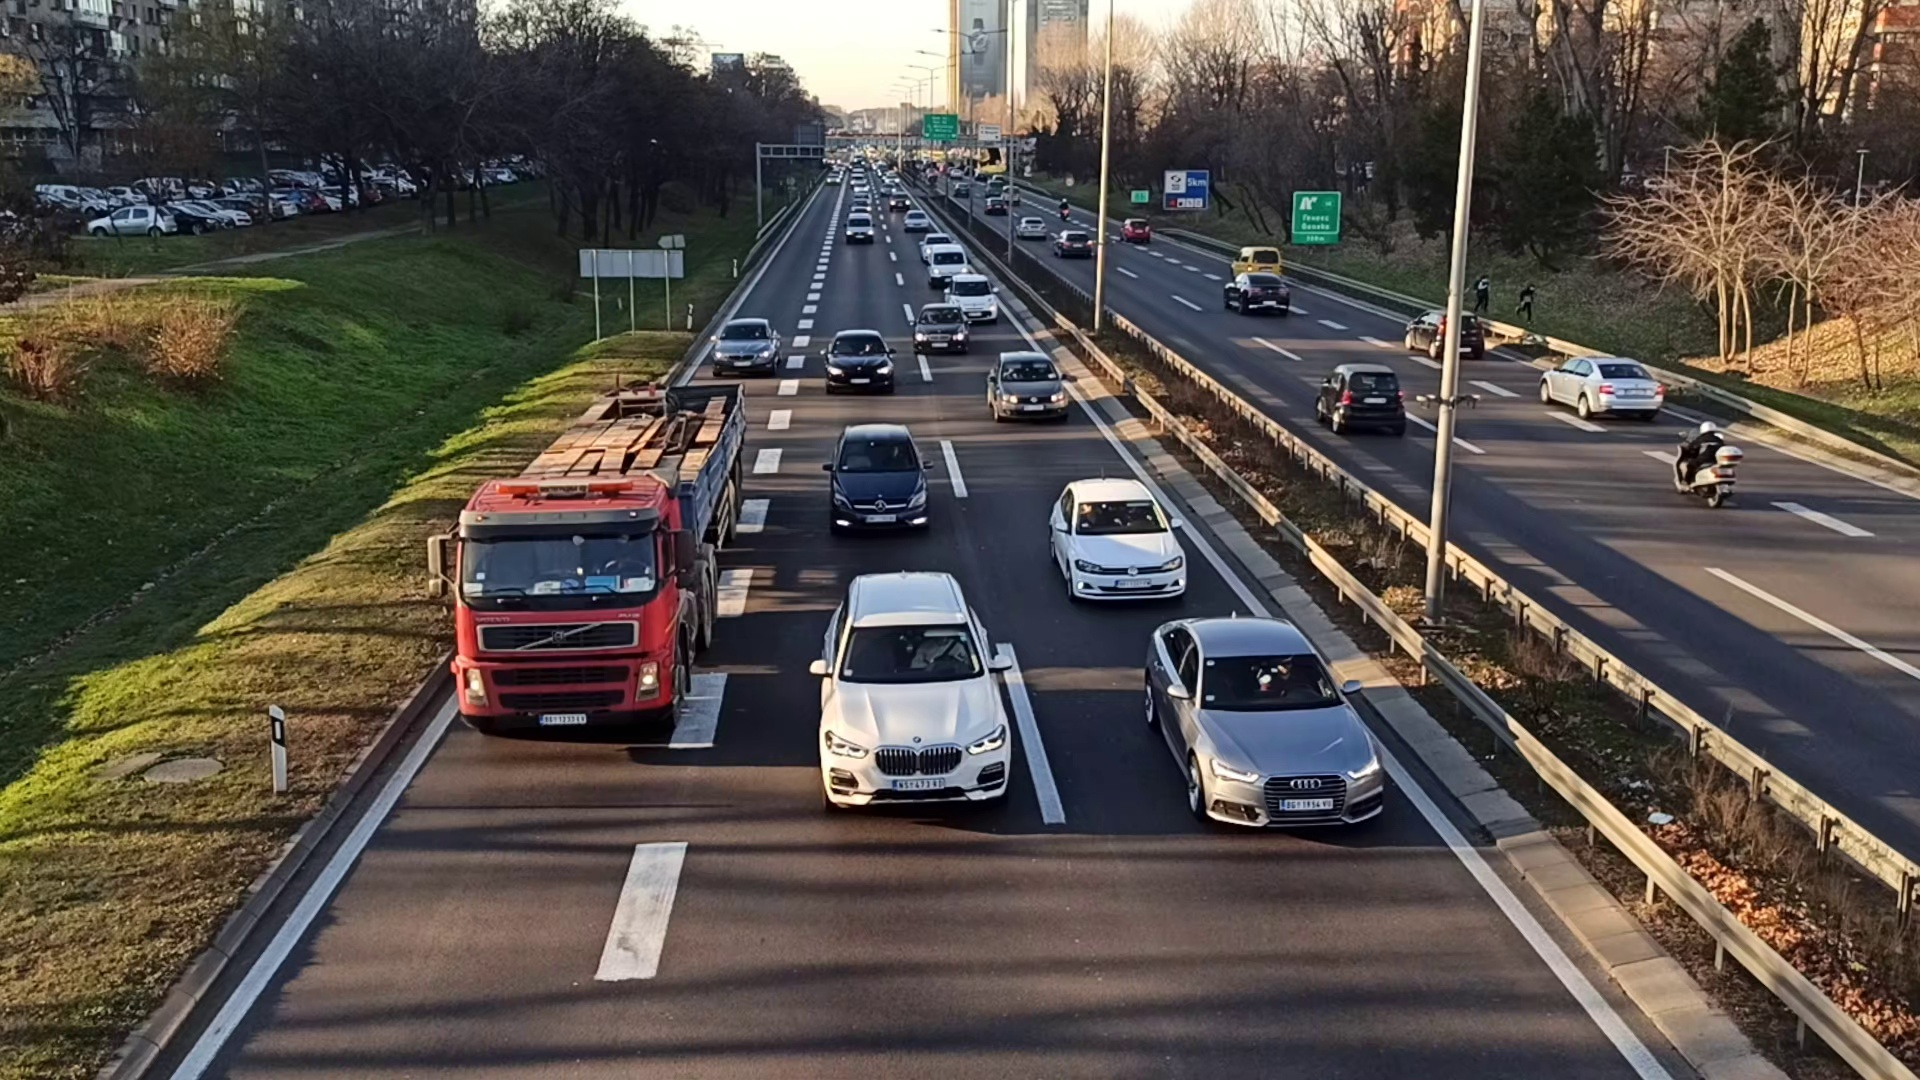car: (1145, 615, 1385, 837), (816, 571, 1015, 823), (1048, 477, 1185, 605), (827, 429, 928, 527), (1540, 351, 1665, 419), (1313, 363, 1404, 438), (985, 349, 1068, 419), (823, 324, 895, 389), (712, 314, 779, 373), (1404, 309, 1485, 357), (1224, 272, 1288, 316), (915, 305, 967, 353), (947, 272, 997, 319)
motorcycle: (1675, 419, 1735, 510)
truck: (436, 382, 740, 757)
van: (1230, 244, 1282, 284), (930, 244, 968, 285), (845, 210, 873, 240)
